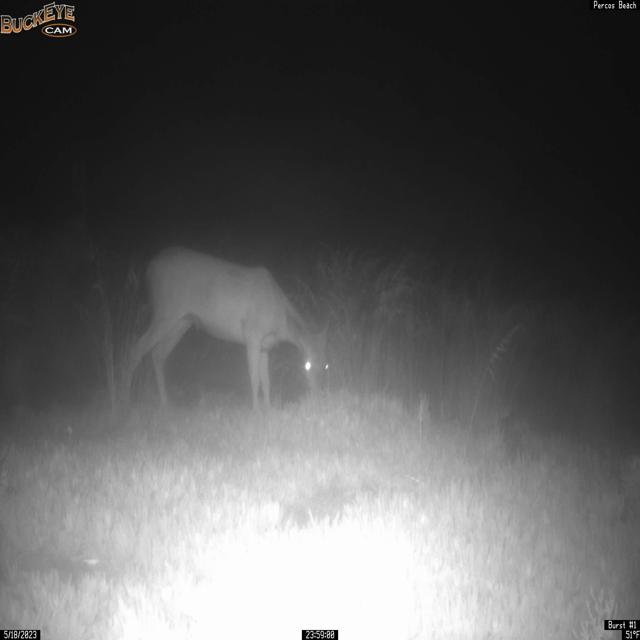deer: (119, 244, 332, 415)
